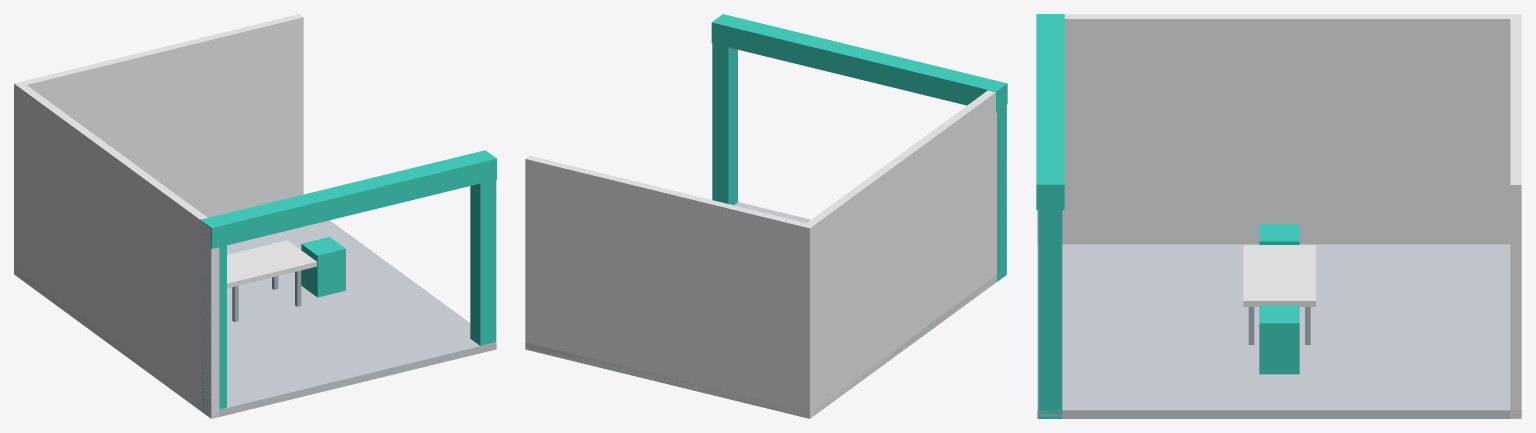
3 views of the same model, side by side, from view 1: azimuth 30°, elevation 25°; view 2: azimuth 150°, elevation 25°; view 3: azimuth 270°, elevation 25° (orthographic). The views are drawn at different scales.
Parts seen in each view (by area): view 1: Exhibition Booth Concept; view 2: Exhibition Booth Concept; view 3: Exhibition Booth Concept.
Part boxes in pixels (x1,y1,x2,y2): Exhibition Booth Concept: (14,14,496,418); Exhibition Booth Concept: (525,14,1007,418); Exhibition Booth Concept: (1036,14,1521,418).
Bounding box in the file's own units: 5 × 3.2 × 6.02.
